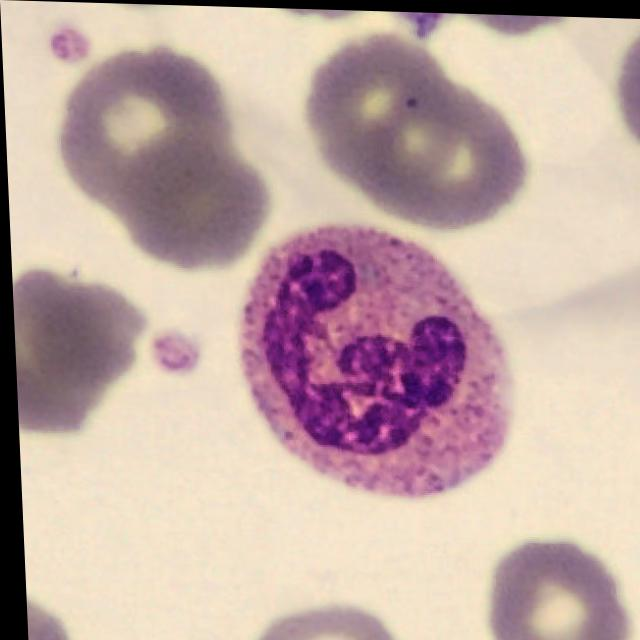Neutrofilo segmentado: (235, 221, 513, 493)
